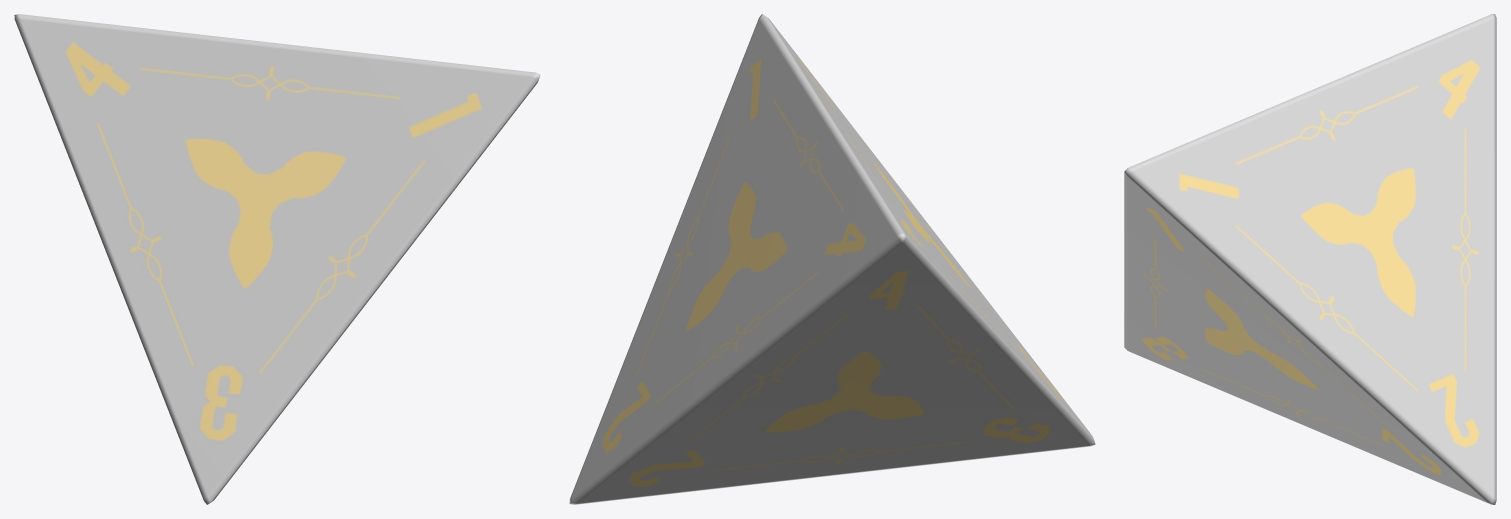
The model's file is dicemodel_d4.gltf.
3 views of the same model, side by side, from view 1: azimuth 30°, elevation 25°; view 2: azimuth 150°, elevation 25°; view 3: azimuth 270°, elevation 25° (orthographic). The views are drawn at different scales.
Parts seen in each view (by area): view 1: dicemodel_d4; view 2: dicemodel_d4; view 3: dicemodel_d4.
Boxes of the visible parts, box(x1,y1,x2,y2) form: dicemodel_d4: box(14, 14, 540, 504); dicemodel_d4: box(569, 14, 1095, 504); dicemodel_d4: box(1124, 14, 1496, 504).
Bounding box in the file's own units: 132 × 132 × 132.
Materials: 1 (1 with a texture image).
